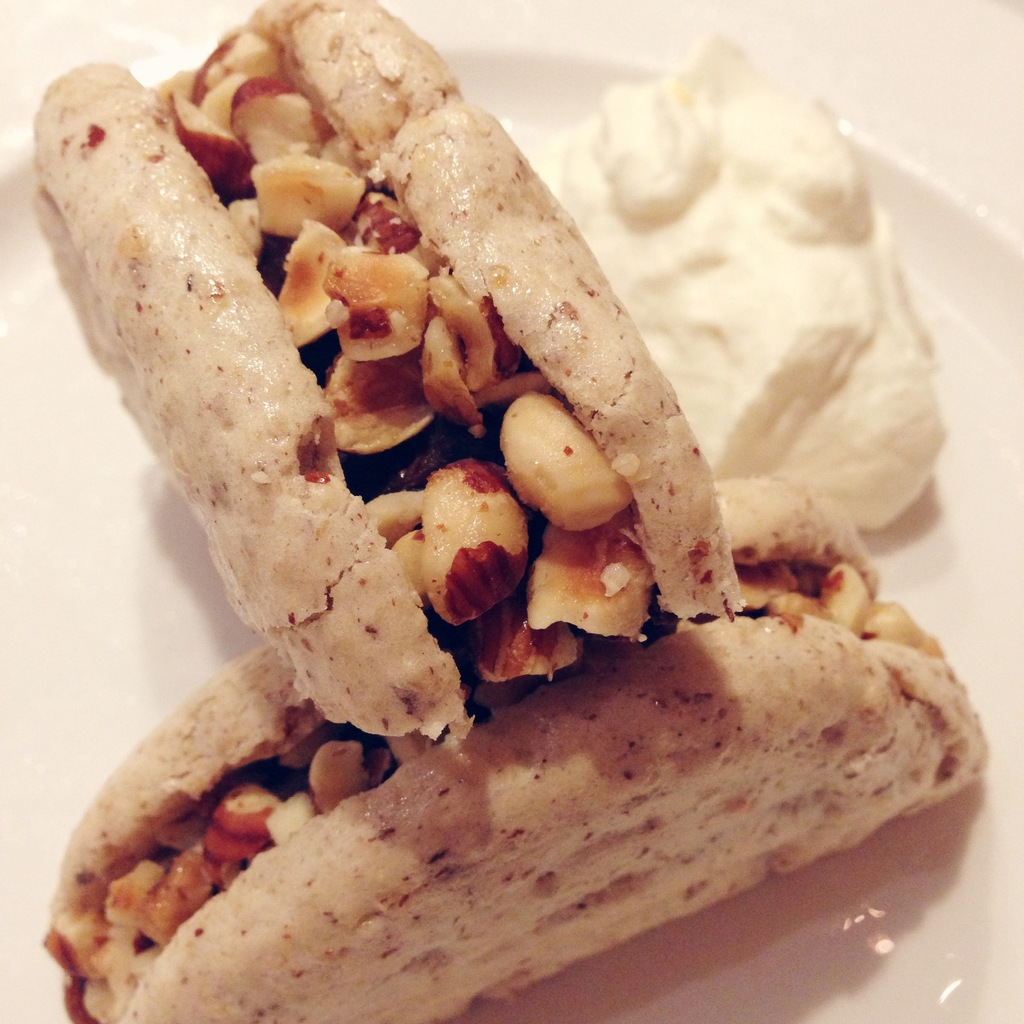sandwich: (33, 0, 751, 739), (43, 479, 988, 1023)
